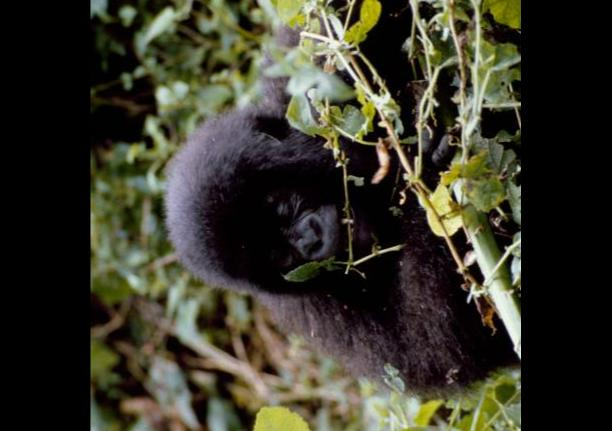goriile_montagne: (149, 0, 476, 402)
